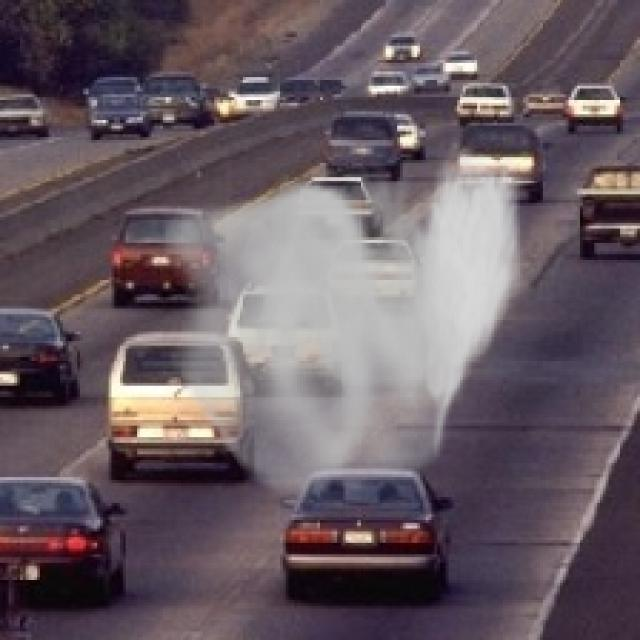smoke: (163, 140, 528, 506)
